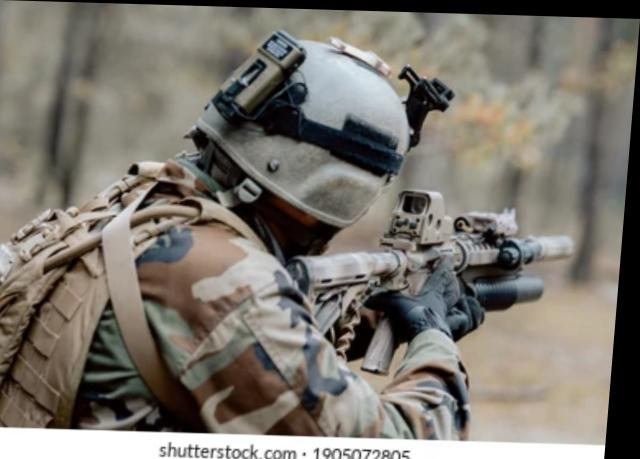other: (0, 42, 501, 427)
